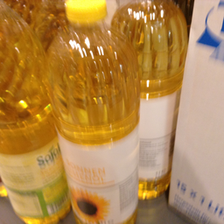oil: (49, 1, 139, 224), (1, 1, 71, 223), (113, 2, 188, 198)
